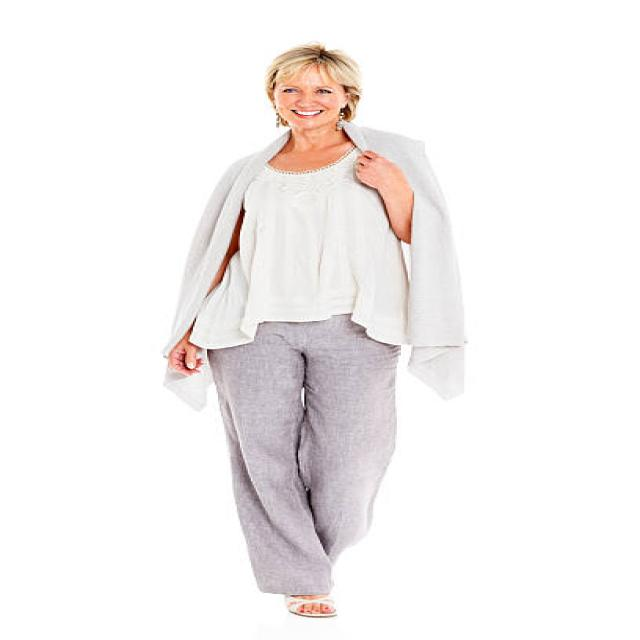Edited images: (137, 36, 476, 622)
